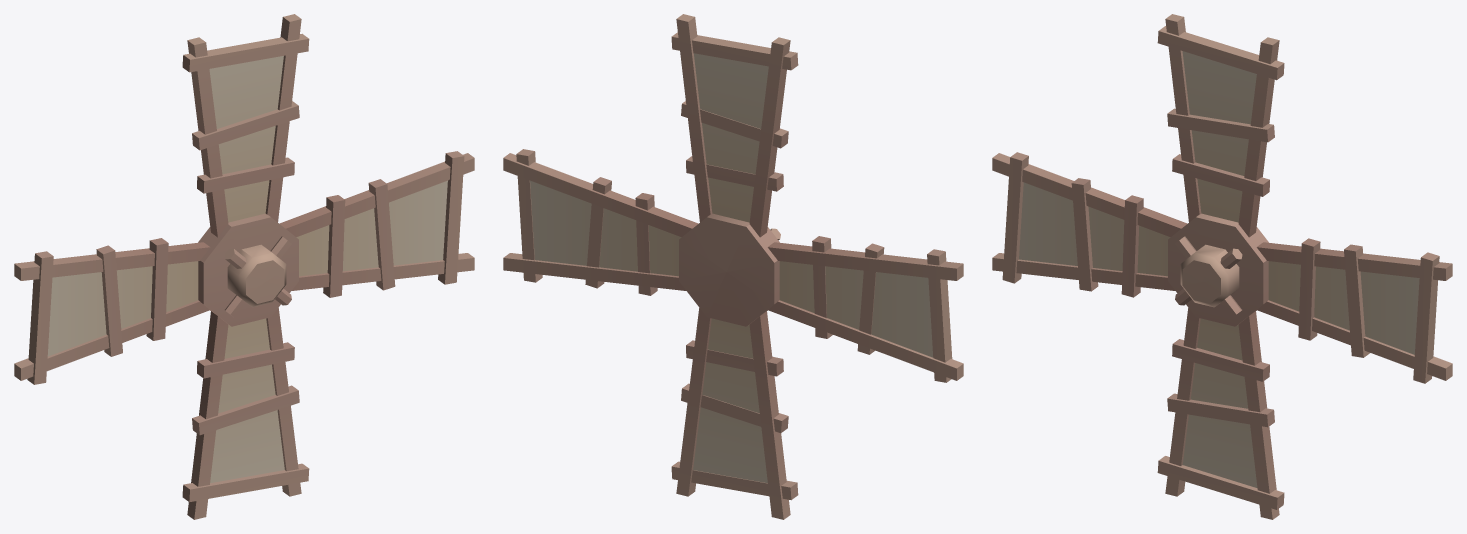
File: windmill_fan.gltf
3 views of the same model, side by side, from view 1: azimuth 30°, elevation 25°; view 2: azimuth 150°, elevation 25°; view 3: azimuth 330°, elevation 25° (orthographic).
Parts seen in each view (by area): view 1: windmill_fan; view 2: windmill_fan; view 3: windmill_fan.
Boxes of the visible parts, box(x1,y1,x2,y2) form: windmill_fan: box(14, 14, 474, 519); windmill_fan: box(503, 14, 963, 519); windmill_fan: box(992, 14, 1452, 519).
Size of the model in its own units: 1 by 1 by 0.1054.
